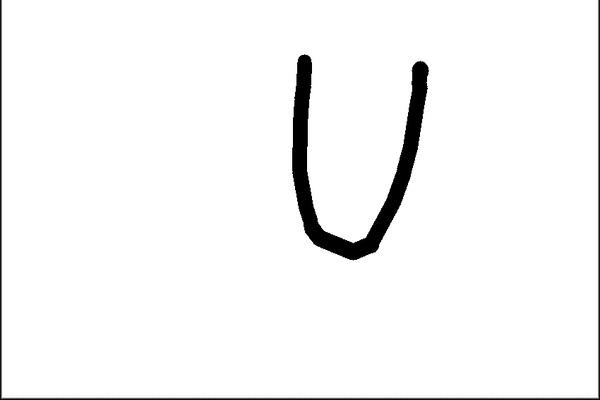U: (273, 47, 433, 263)
